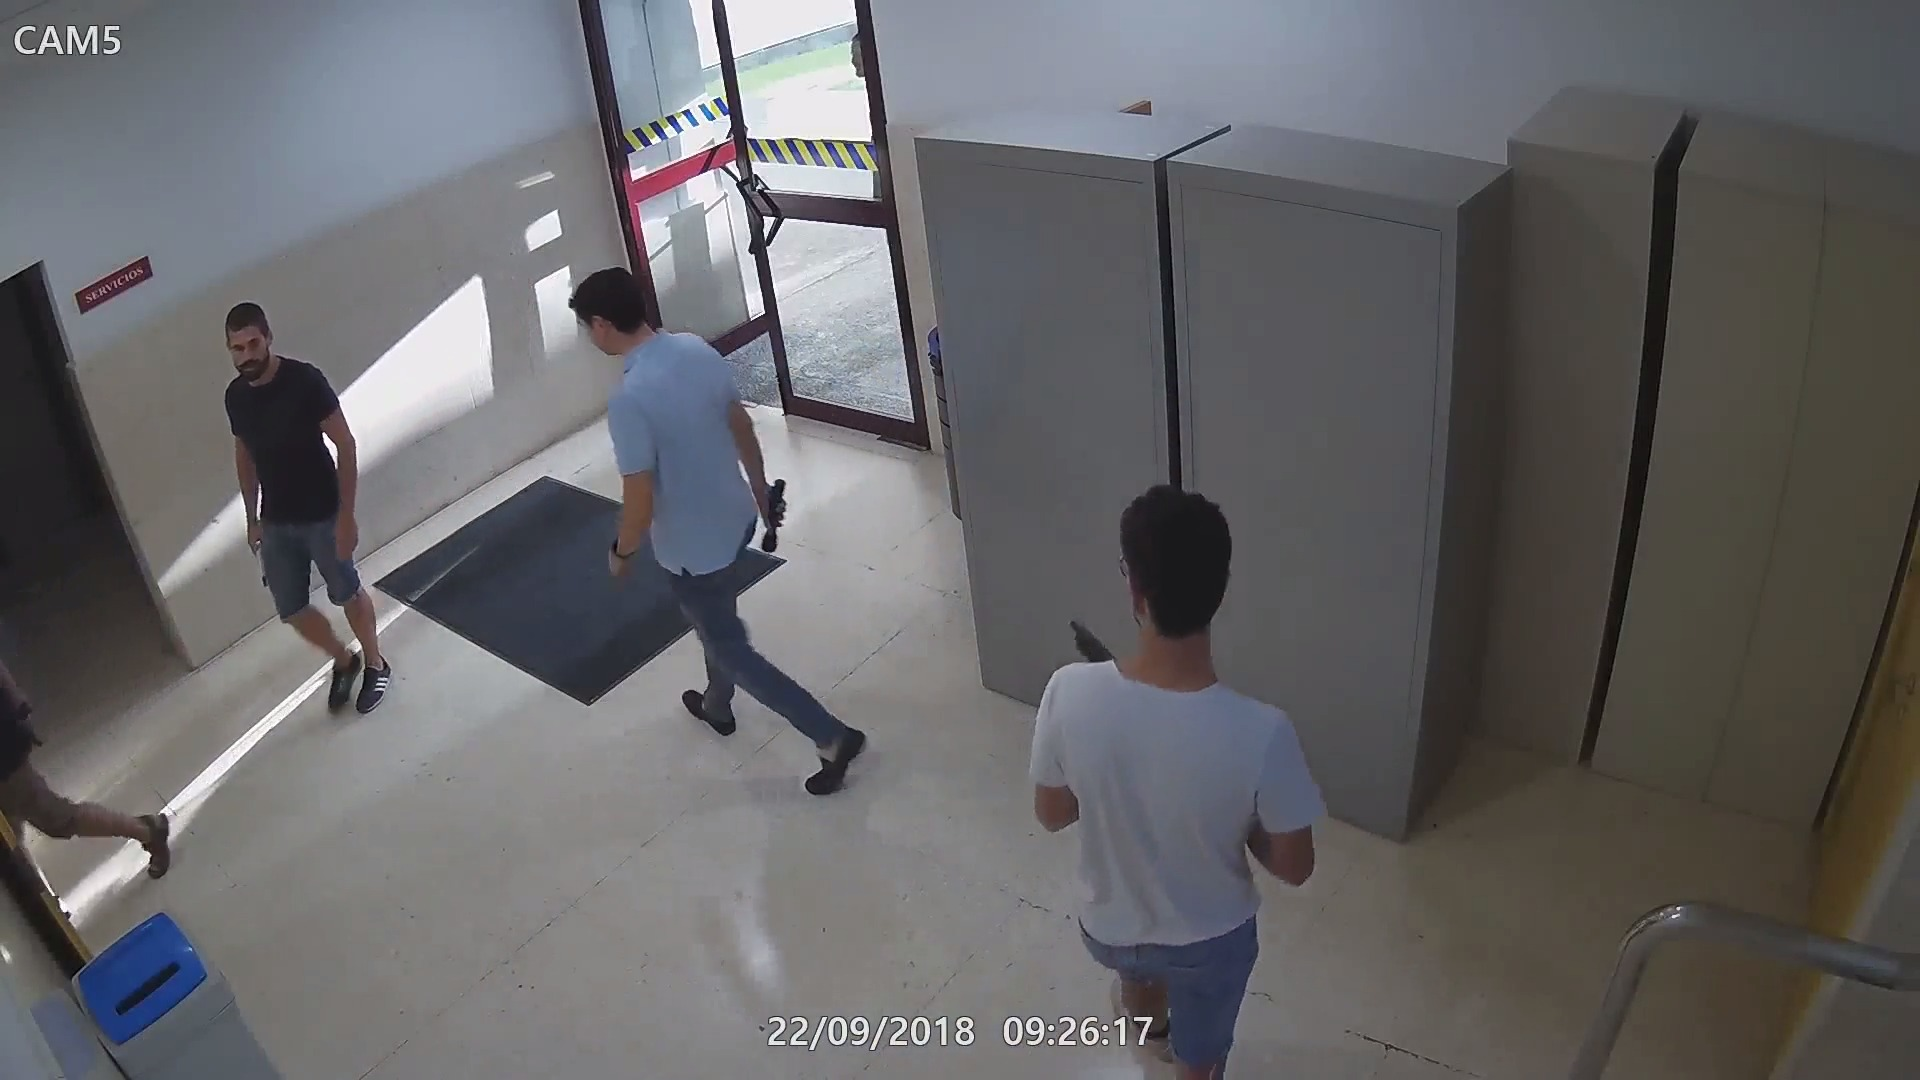Handgun: (247, 535, 270, 588)
Short_rifle: (1062, 609, 1121, 666)
